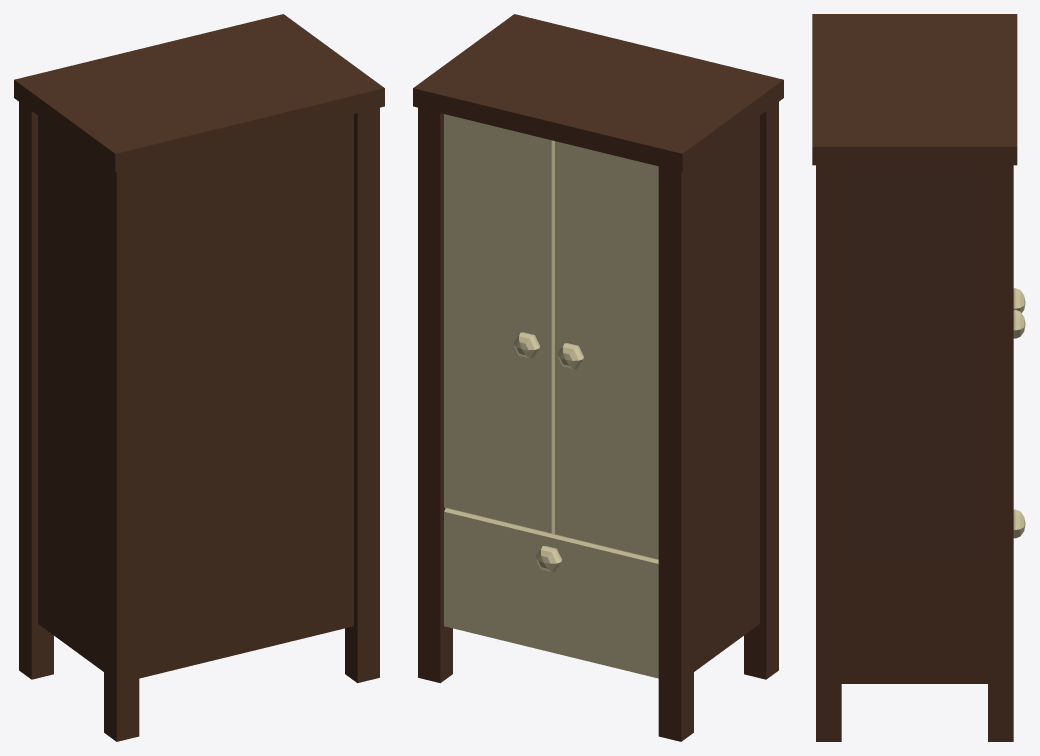
The model's file is Armoire (1).fbx.
The picture shows the model from 3 angles, left to right: view 1: azimuth 30°, elevation 25°; view 2: azimuth 150°, elevation 25°; view 3: azimuth 270°, elevation 25°; orthographic projection.
Parts seen in each view (by area): view 1: Armoire; view 2: Armoire; view 3: Armoire.
Boxes of the visible parts, x1,y1,x2,y2 form: Armoire: (14, 14, 384, 741); Armoire: (413, 14, 783, 741); Armoire: (812, 14, 1025, 741).
Bounding box in the file's own units: 86 × 180 × 58.29.
